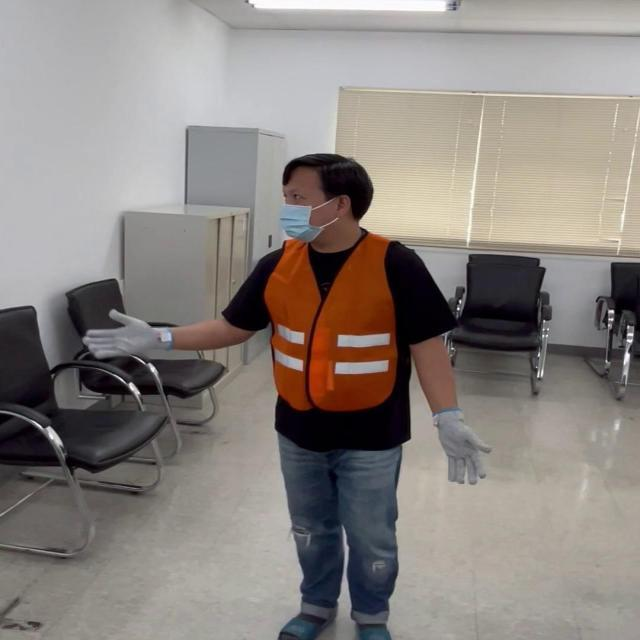gloved_hand: (434, 406, 490, 482), (93, 306, 159, 365)
